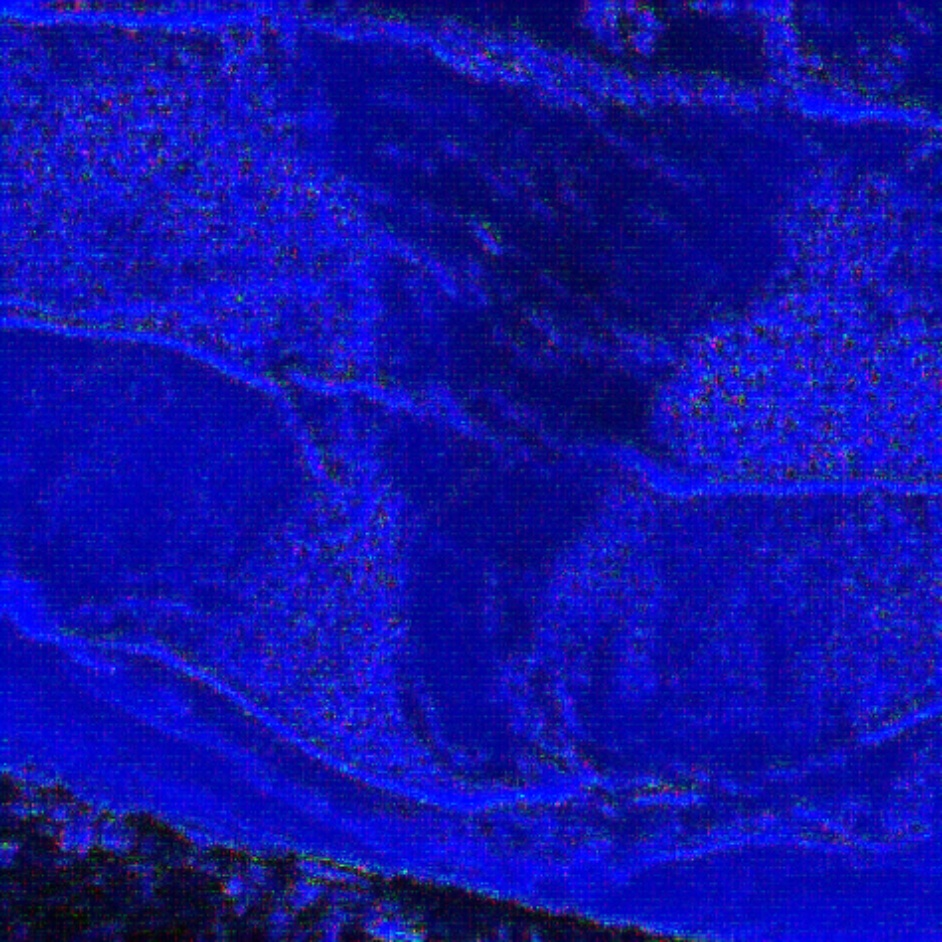rip_current: (264, 58, 794, 782)
